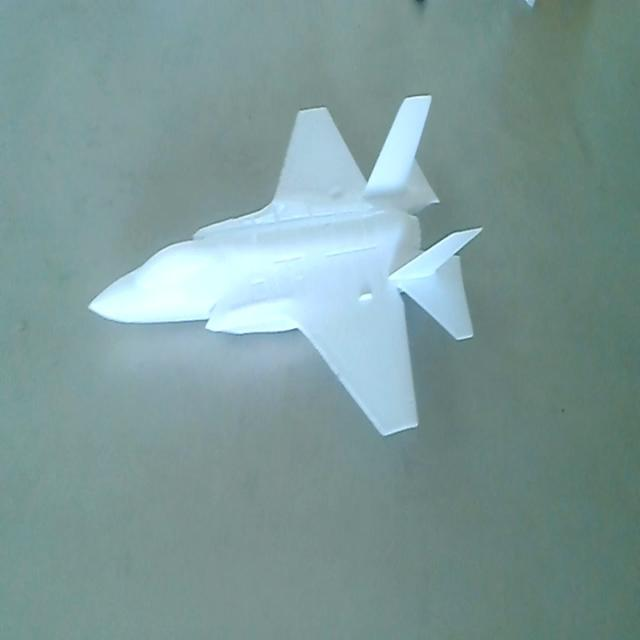Jet: (82, 90, 488, 462)
